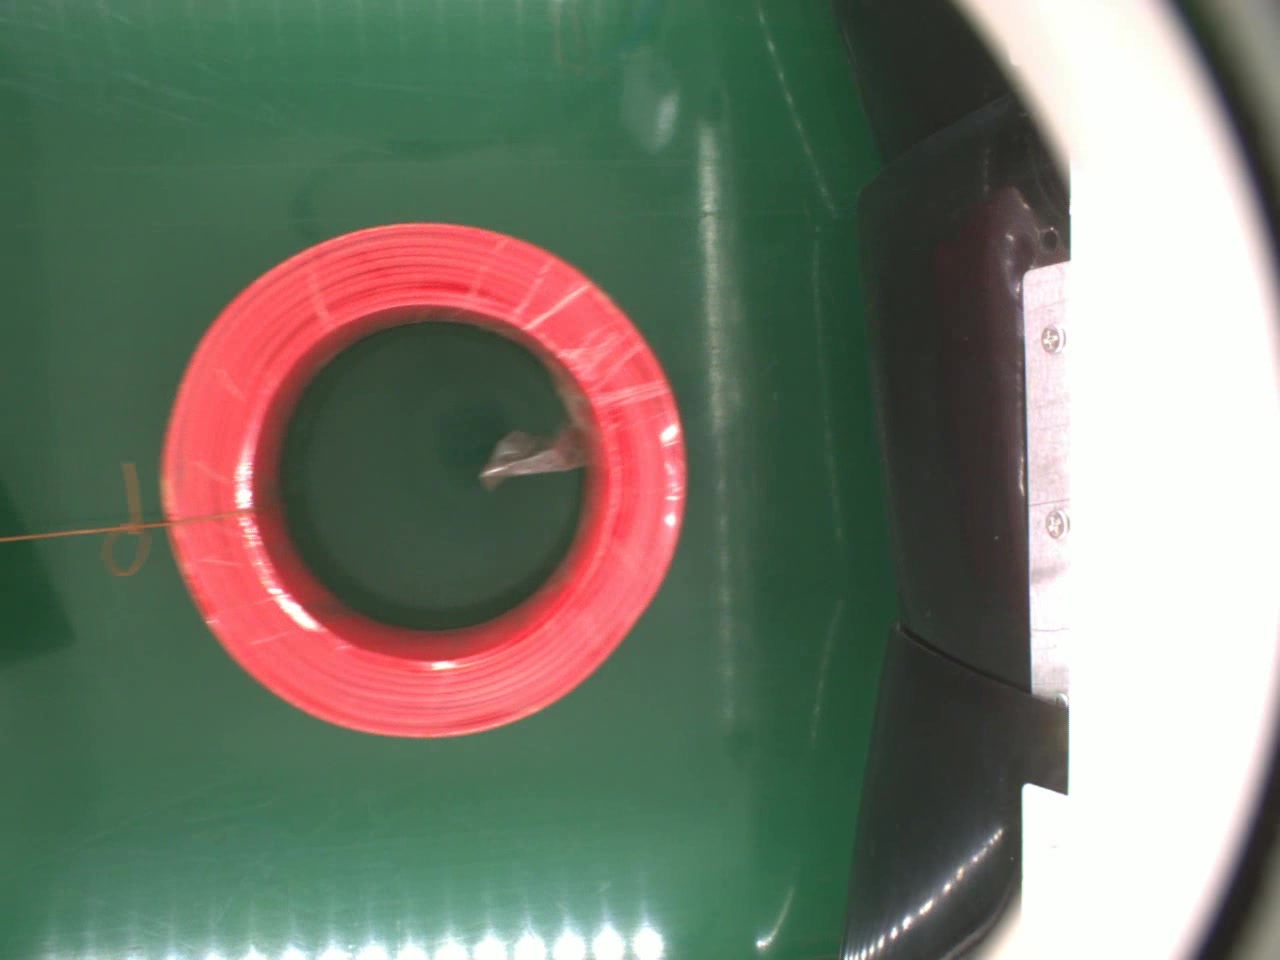red: (152, 218, 693, 753)
